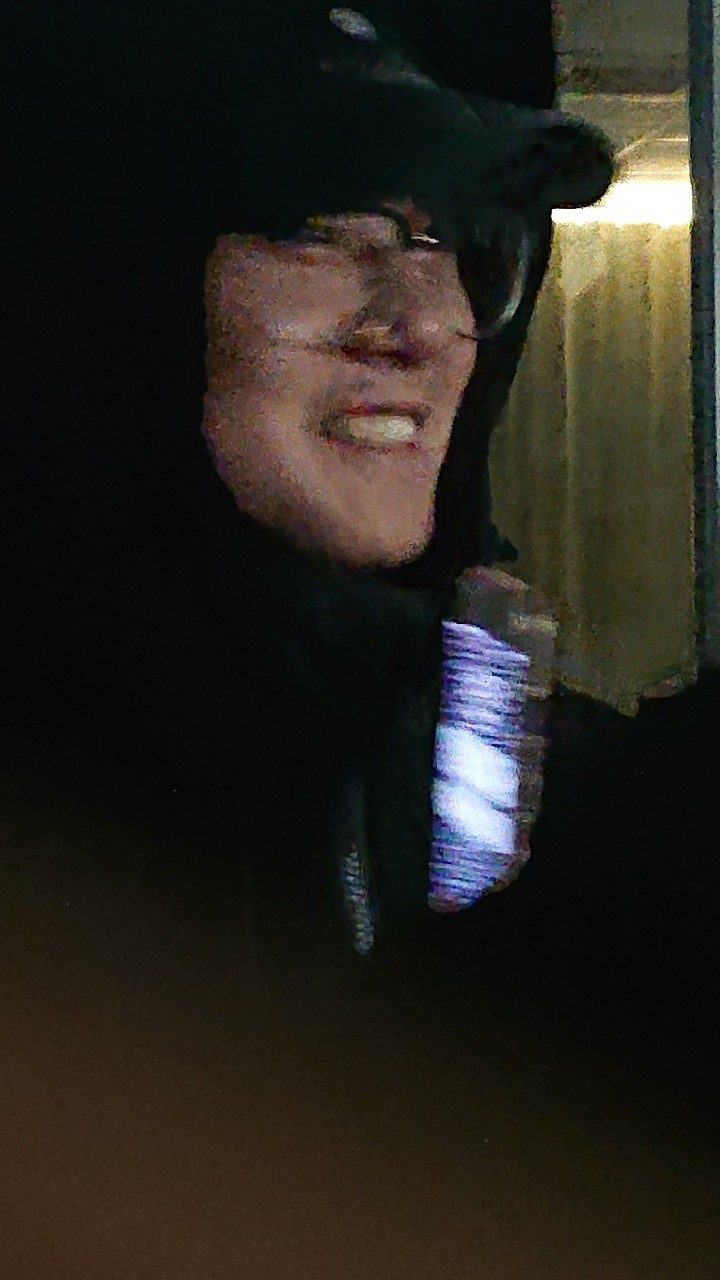people: (48, 47, 581, 784)
